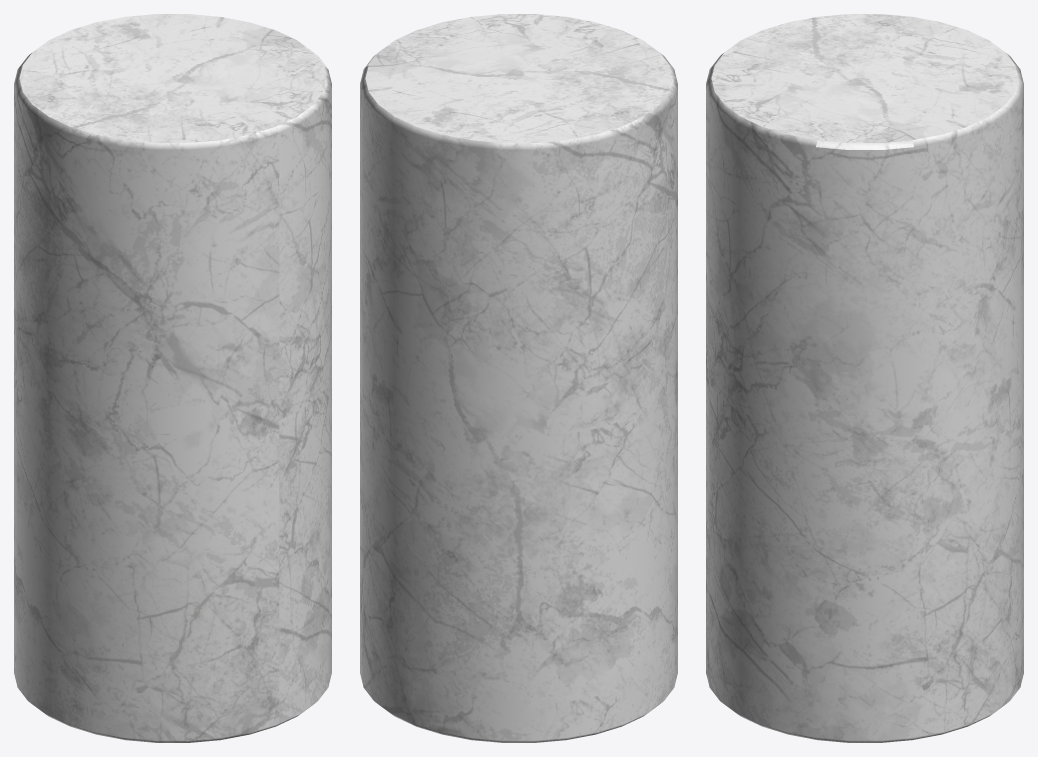
File: SM_Pillar_Cyl_Middle.fbx
3 views of the same model, side by side, from view 1: azimuth 30°, elevation 25°; view 2: azimuth 150°, elevation 25°; view 3: azimuth 270°, elevation 25° (orthographic).
Visible parts, largest first — view 1: SM_Pillar_Cyl_Middle_LOD0; view 2: SM_Pillar_Cyl_Middle_LOD0; view 3: SM_Pillar_Cyl_Middle_LOD0.
Part boxes in pixels (<box>): SM_Pillar_Cyl_Middle_LOD0: <box>14,14,331,742</box>; SM_Pillar_Cyl_Middle_LOD0: <box>360,14,677,742</box>; SM_Pillar_Cyl_Middle_LOD0: <box>706,14,1023,742</box>.
Bounding box in the file's own units: 119 × 120 × 250.
1 material, 1 textured.
